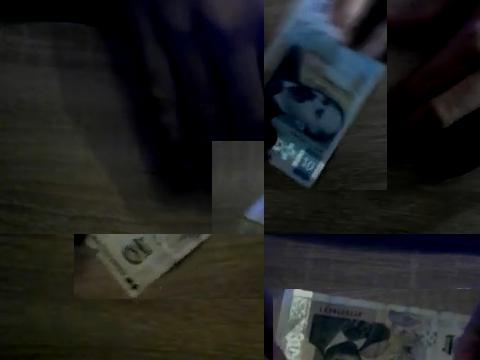10leva: (274, 289, 469, 360), (88, 234, 218, 299), (376, 316, 447, 360)
20leva: (264, 0, 387, 190)
